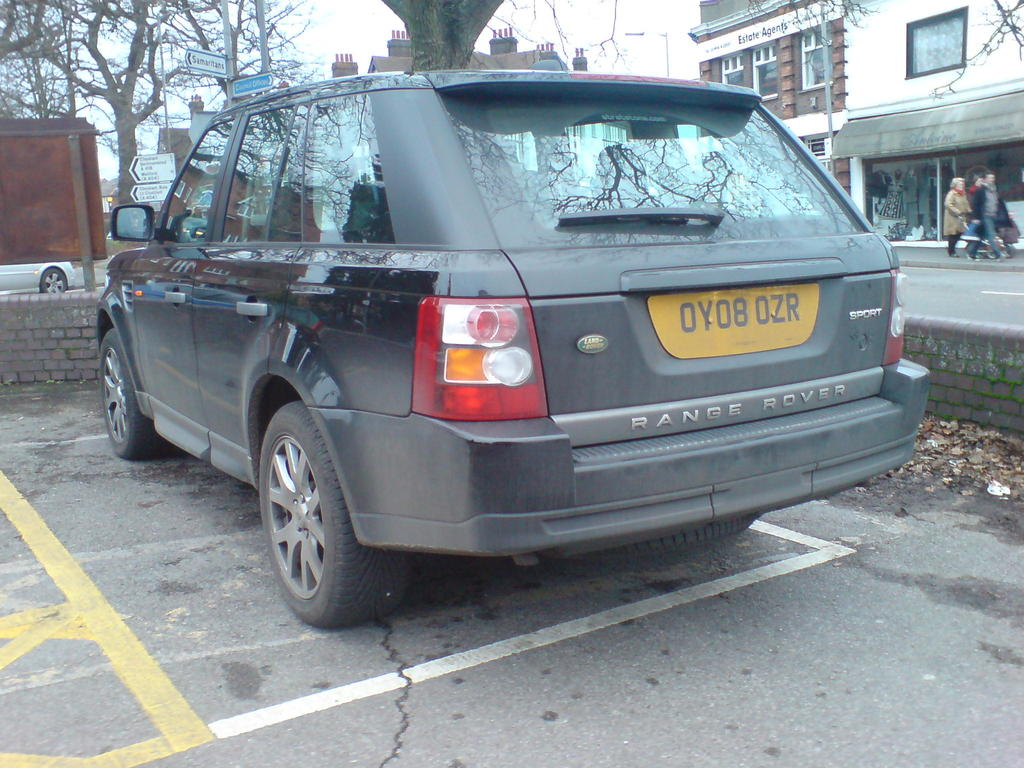license plate: (650, 299, 825, 345)
